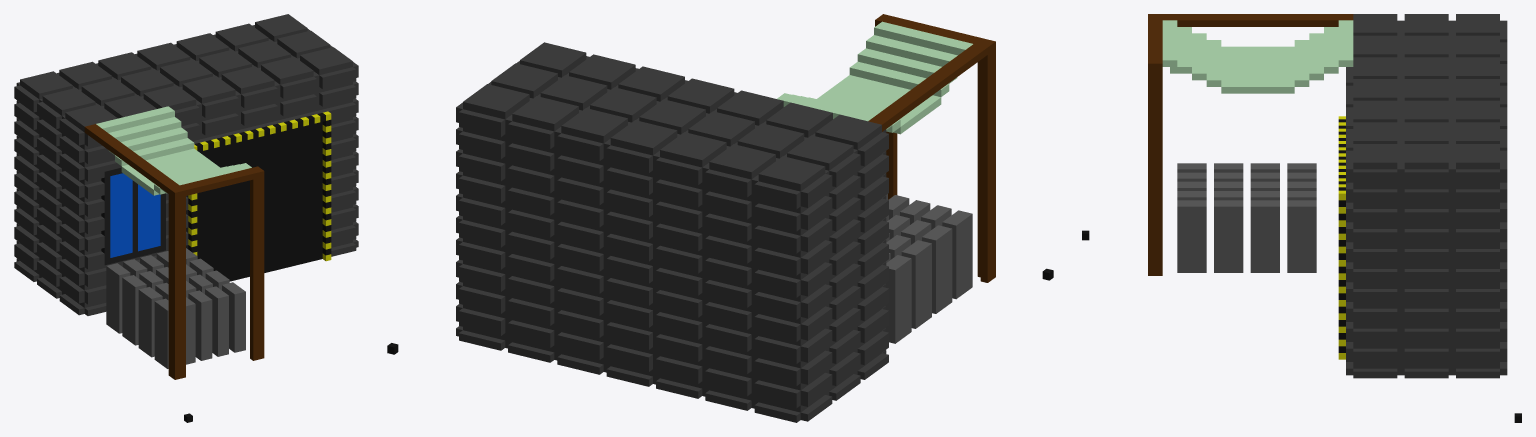
File: Stonecutter.glb
3 views of the same model, side by side, from view 1: azimuth 30°, elevation 25°; view 2: azimuth 150°, elevation 25°; view 3: azimuth 270°, elevation 25° (orthographic). The views are drawn at different scales.
Visible parts, largest first — view 1: stonecutter; view 2: stonecutter; view 3: stonecutter.
Part boxes in pixels (x1=…): stonecutter: x1=14, y1=14, x2=358, y2=422; stonecutter: x1=387, y1=14, x2=1053, y2=422; stonecutter: x1=1082, y1=14, x2=1521, y2=422.
Bounding box in the file's own units: 6 × 3.5 × 6.
